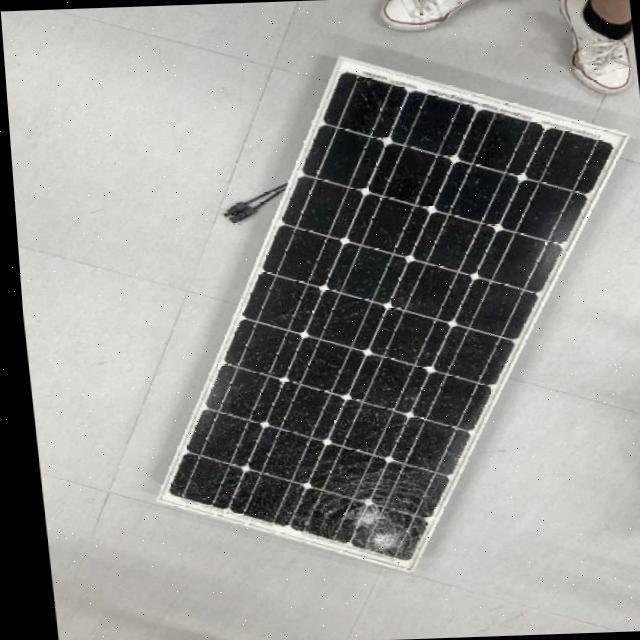Structural Damage: (259, 432, 452, 572)
